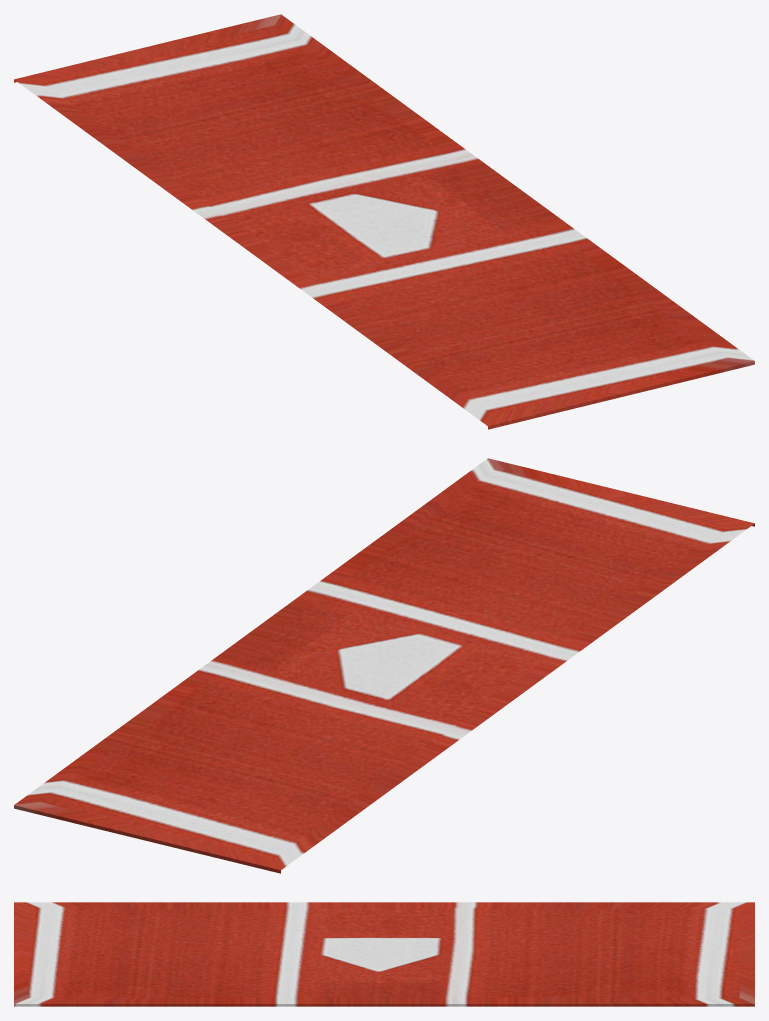
Rendered from alfombra_jaulabateo.obj.
3 renders of one model, top to bottom at view 1: azimuth 30°, elevation 25°; view 2: azimuth 150°, elevation 25°; view 3: azimuth 270°, elevation 25°, orthographic. The views are drawn at different scales.
Parts seen in each view (by area): view 1: Alfombra; view 2: Alfombra; view 3: Alfombra.
Part boxes in pixels (left/top/right/bottom): Alfombra: left=14, top=14, right=754, bottom=429; Alfombra: left=14, top=458, right=754, bottom=873; Alfombra: left=14, top=902, right=754, bottom=1006.
Bounding box in the file's own units: 16.25 × 0.2 × 49.94.
